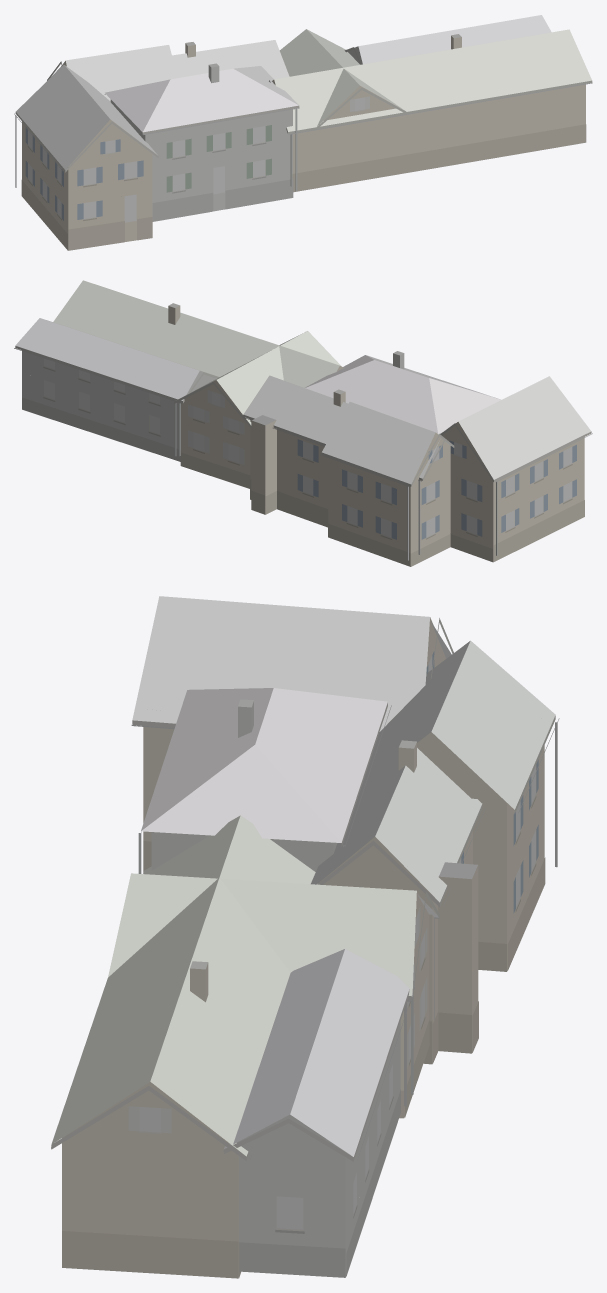
3 renders of one model, top to bottom at view 1: azimuth 30°, elevation 25°; view 2: azimuth 150°, elevation 25°; view 3: azimuth 270°, elevation 25°, orthographic. The views are drawn at different scales.
Visible parts, largest first — view 1: bld; view 2: bld; view 3: bld.
Boxes of the visible parts, <box> form: bld: <box>14,15,592,250</box>; bld: <box>14,280,592,566</box>; bld: <box>51,596,559,1278</box>.
Size of the model in its own units: 44.1 by 10.8 by 18.91.
